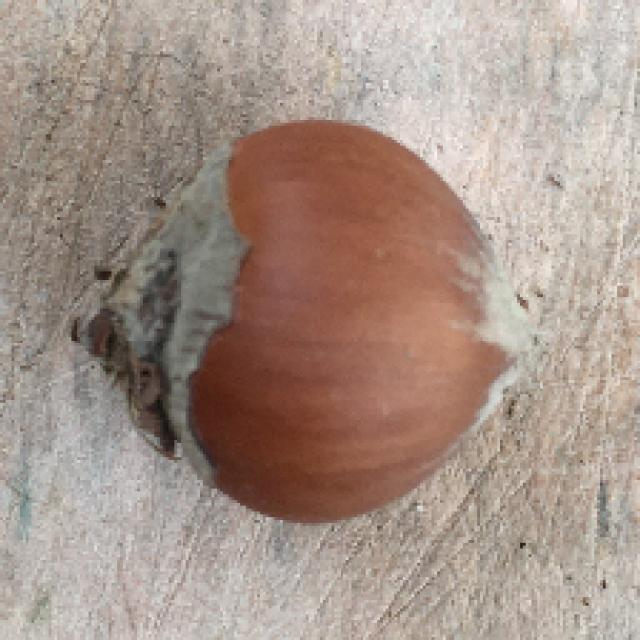damagedHazelnut: (70, 119, 540, 533)
